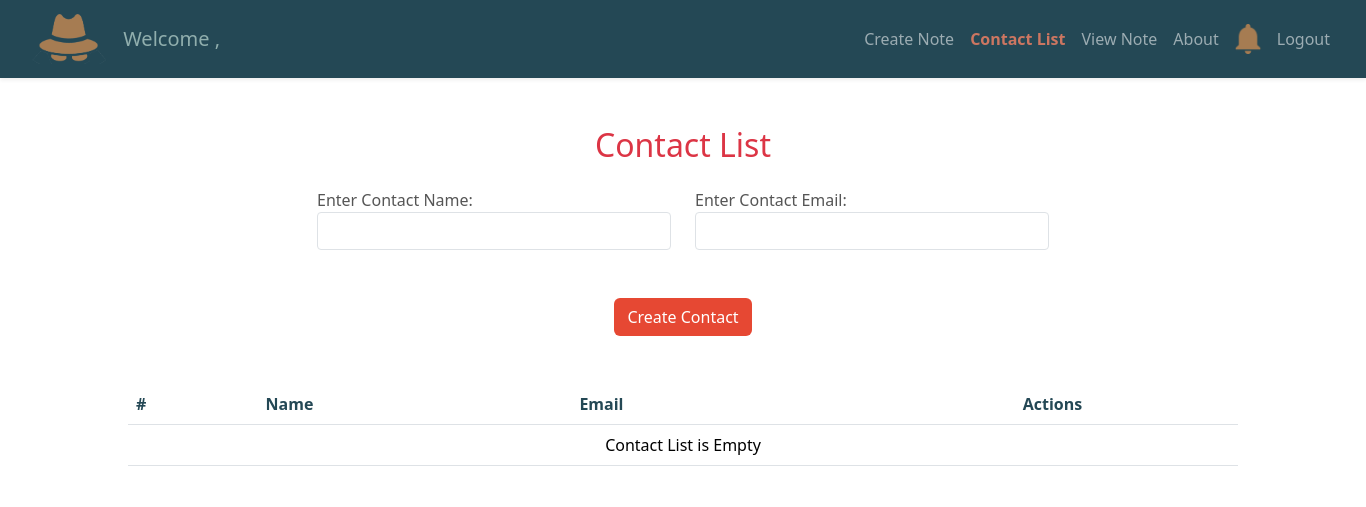
Test case: Contact List Page Testing › shows error messages when trying to create a contact with empty fields
Click the button with id "add-btn": {"x": 683, "y": 317} [614, 298, 751, 336]
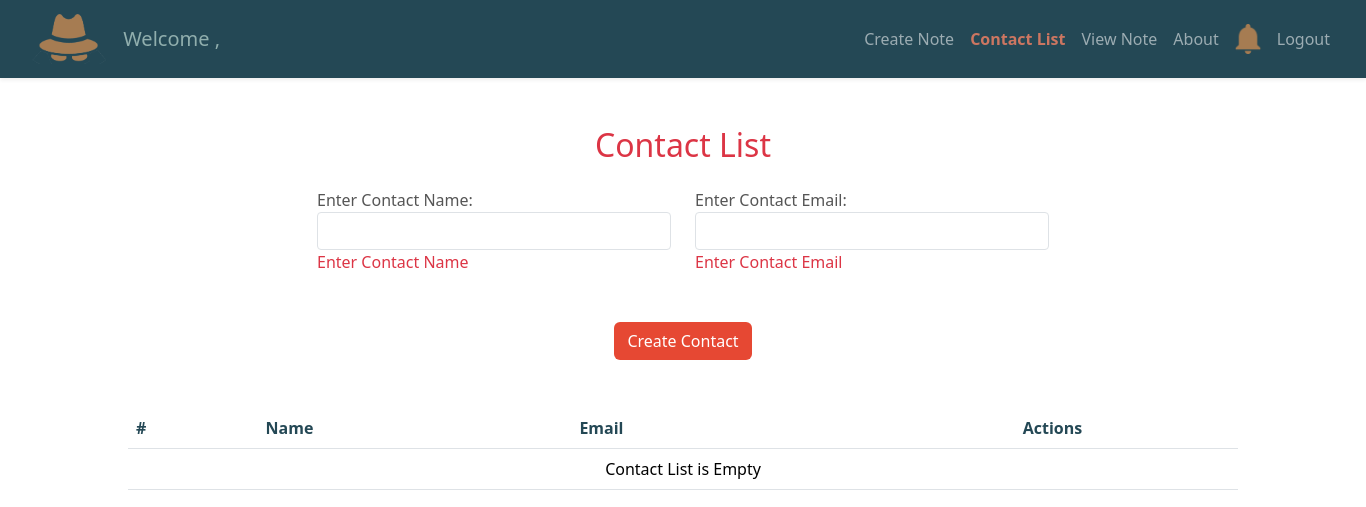
Expected: the text "Enter Contact Name" is shown, [317, 251, 468, 273]
Expected: the text "Enter Contact Email" is shown, [695, 251, 842, 273]
